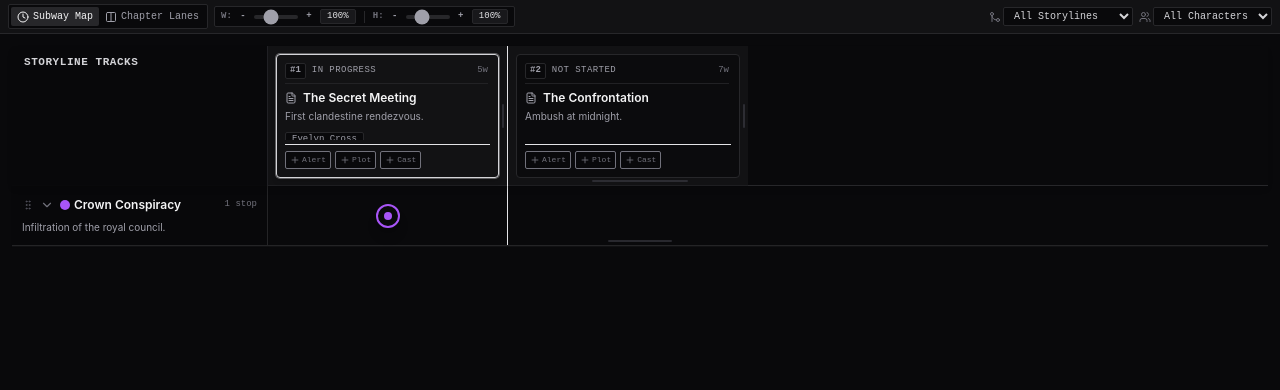
TimelineView › opens floating popover with details on clicking a storyline marker
Click the button named "Crown Conspiracy". click: x=388, y=216
box: [376,204,400,228]
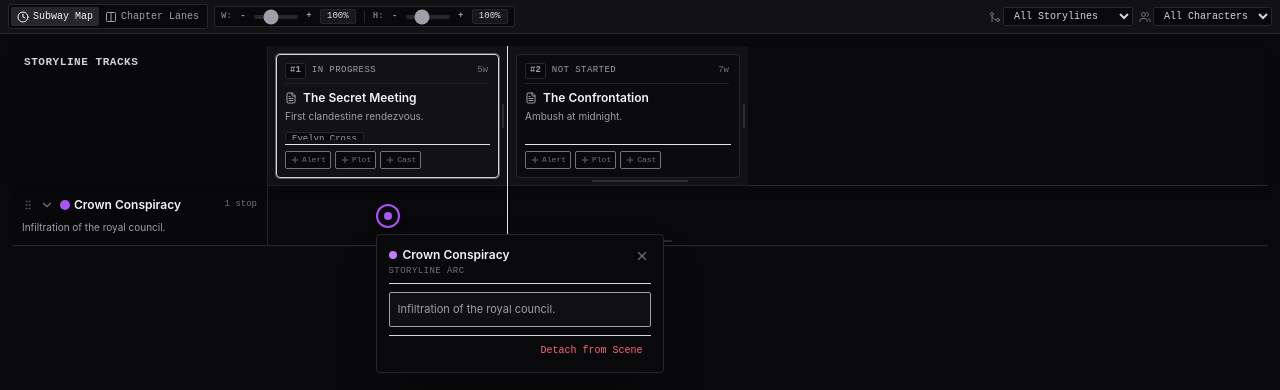
Now the button "Detach from Scene" is shown, box [532,342,650,360]
